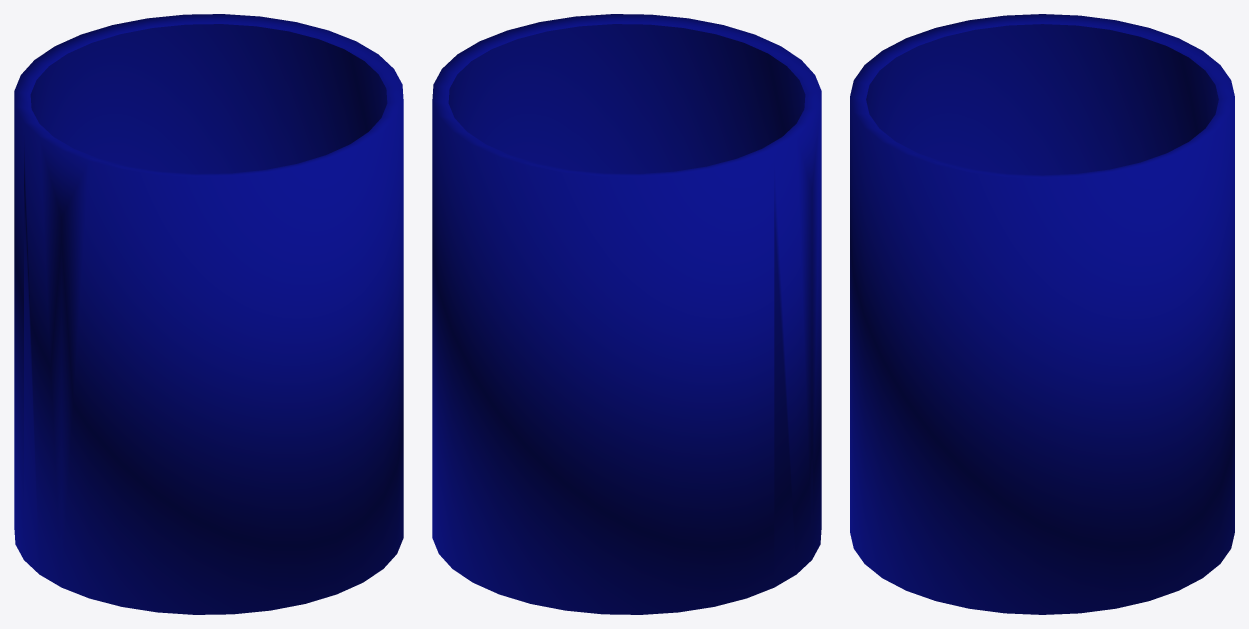
File: cup.fbx
The picture shows the model from 3 angles, left to right: view 1: azimuth 30°, elevation 25°; view 2: azimuth 150°, elevation 25°; view 3: azimuth 270°, elevation 25°; orthographic projection.
Visible parts, largest first — view 1: Mug, Mug (Interior); view 2: Mug, Mug (Interior); view 3: Mug, Mug (Interior).
Part boxes in pixels (left/top/right/bottom): Mug: left=14, top=14, right=403, bottom=614; Mug (Interior): left=30, top=24, right=387, bottom=173; Mug: left=432, top=14, right=821, bottom=614; Mug (Interior): left=448, top=24, right=805, bottom=173; Mug: left=850, top=14, right=1234, bottom=614; Mug (Interior): left=866, top=24, right=1218, bottom=175.
Size of the model in its own units: 0.4055 by 0.5 by 0.4.
